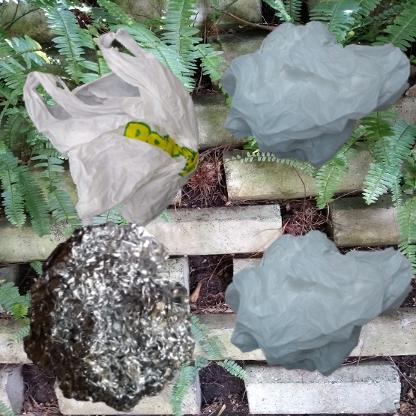aluminio: (10, 213, 204, 416)
bolsa: (10, 10, 265, 287), (213, 213, 416, 401), (213, 10, 416, 182)
